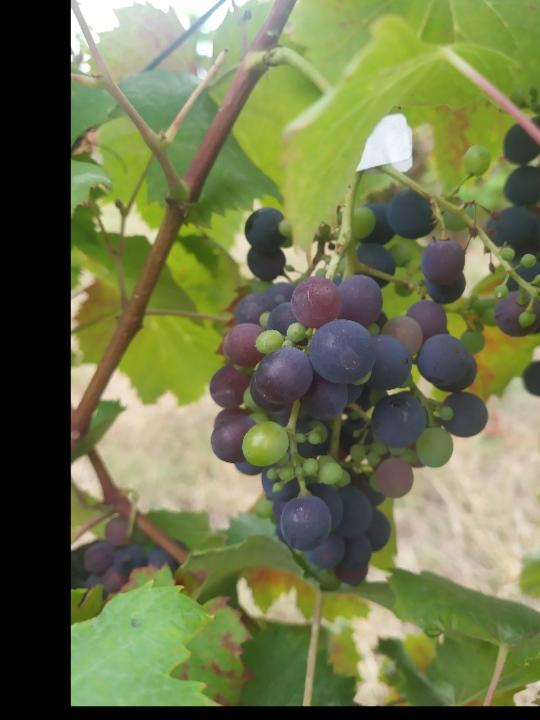grape: (208, 141, 490, 589)
